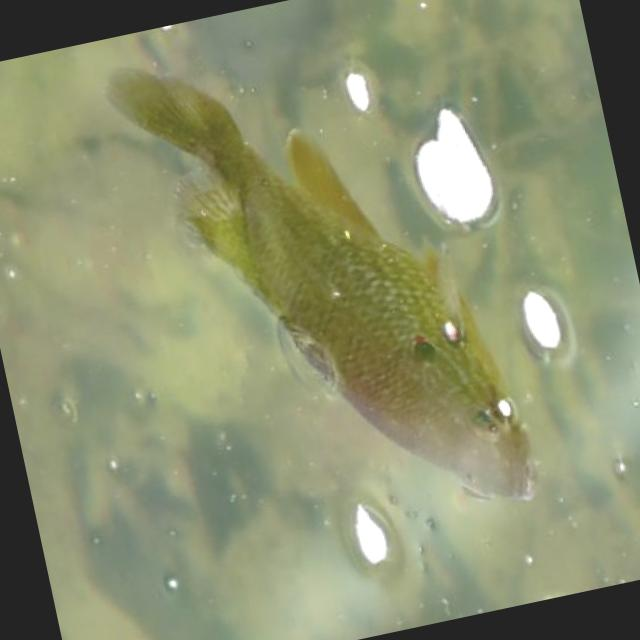Gunes Levregi: (74, 0, 551, 584)
